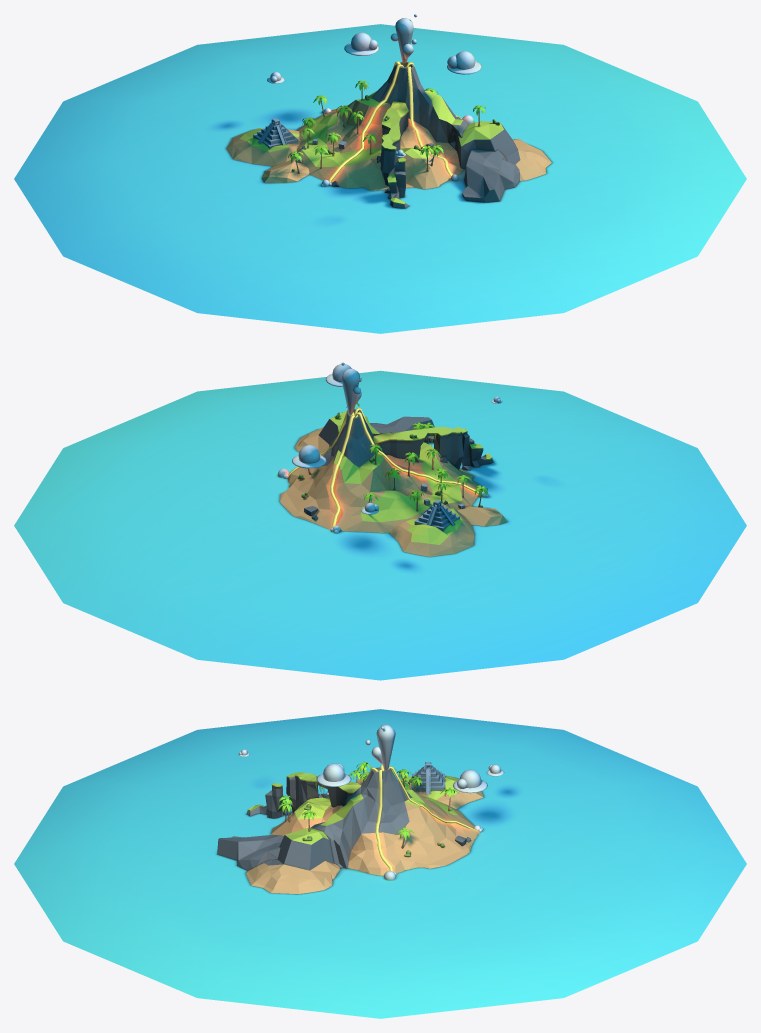
The model's file is testIsland.obj.
3 views of the same model, one above another, from view 1: azimuth 30°, elevation 25°; view 2: azimuth 150°, elevation 25°; view 3: azimuth 270°, elevation 25° (orthographic).
Parts seen in each view (by area): view 1: Ocean_Sphere.004, Volacano_Sand_Sphere.005, Volcano_Base_Sphere, Volcano_Grass_Sphere.002, Clouds_Sphere.010, Palm_tree_1_Cylinder.001, Volcanic_lava_Plane.002, Island_Grass_Sphere.009, Pyramid_Cube.001; view 2: Ocean_Sphere.004, Volacano_Sand_Sphere.005, Volcano_Base_Sphere, Volcano_Grass_Sphere.002, Clouds_Sphere.010, Volcanic_lava_Plane.002, Palm_tree_1_Cylinder.001, Island_Grass_Sphere.009, Pyramid_Cube.001; view 3: Ocean_Sphere.004, Volacano_Sand_Sphere.005, Volcano_Base_Sphere, Clouds_Sphere.010, Volcano_Grass_Sphere.002, Palm_tree_1_Cylinder.001, Volcanic_lava_Plane.002, Pyramid_Cube.001, Island_Grass_Sphere.009.
Boxes of the visible parts, bbox=[...] form: Ocean_Sphere.004: bbox=[14, 24, 746, 333]; Volacano_Sand_Sphere.005: bbox=[226, 100, 551, 190]; Volcano_Base_Sphere: bbox=[302, 62, 520, 208]; Volcano_Grass_Sphere.002: bbox=[240, 90, 503, 166]; Clouds_Sphere.010: bbox=[267, 14, 481, 157]; Palm_tree_1_Cylinder.001: bbox=[288, 80, 485, 162]; Volcanic_lava_Plane.002: bbox=[328, 61, 460, 182]; Island_Grass_Sphere.009: bbox=[381, 101, 408, 204]; Pyramid_Cube.001: bbox=[253, 118, 346, 163]; Ocean_Sphere.004: bbox=[14, 370, 746, 680]; Volacano_Sand_Sphere.005: bbox=[280, 427, 507, 556]; Volcano_Base_Sphere: bbox=[304, 409, 493, 519]; Volcano_Grass_Sphere.002: bbox=[330, 411, 462, 544]; Clouds_Sphere.010: bbox=[292, 362, 502, 514]; Volcanic_lava_Plane.002: bbox=[288, 408, 478, 528]; Palm_tree_1_Cylinder.001: bbox=[346, 402, 488, 502]; Island_Grass_Sphere.009: bbox=[373, 427, 492, 459]; Pyramid_Cube.001: bbox=[414, 483, 464, 531]; Ocean_Sphere.004: bbox=[14, 709, 746, 1018]; Volacano_Sand_Sphere.005: bbox=[246, 772, 483, 894]; Volcano_Base_Sphere: bbox=[217, 767, 470, 870]; Clouds_Sphere.010: bbox=[238, 724, 504, 793]; Volcano_Grass_Sphere.002: bbox=[285, 775, 458, 844]; Palm_tree_1_Cylinder.001: bbox=[278, 761, 459, 840]; Volcanic_lava_Plane.002: bbox=[366, 765, 479, 871]; Pyramid_Cube.001: bbox=[410, 762, 445, 794]; Island_Grass_Sphere.009: bbox=[247, 772, 361, 811].
Bounding box in the file's own units: 475 × 111 × 475.
Materials: 15 (15 with a texture image).
